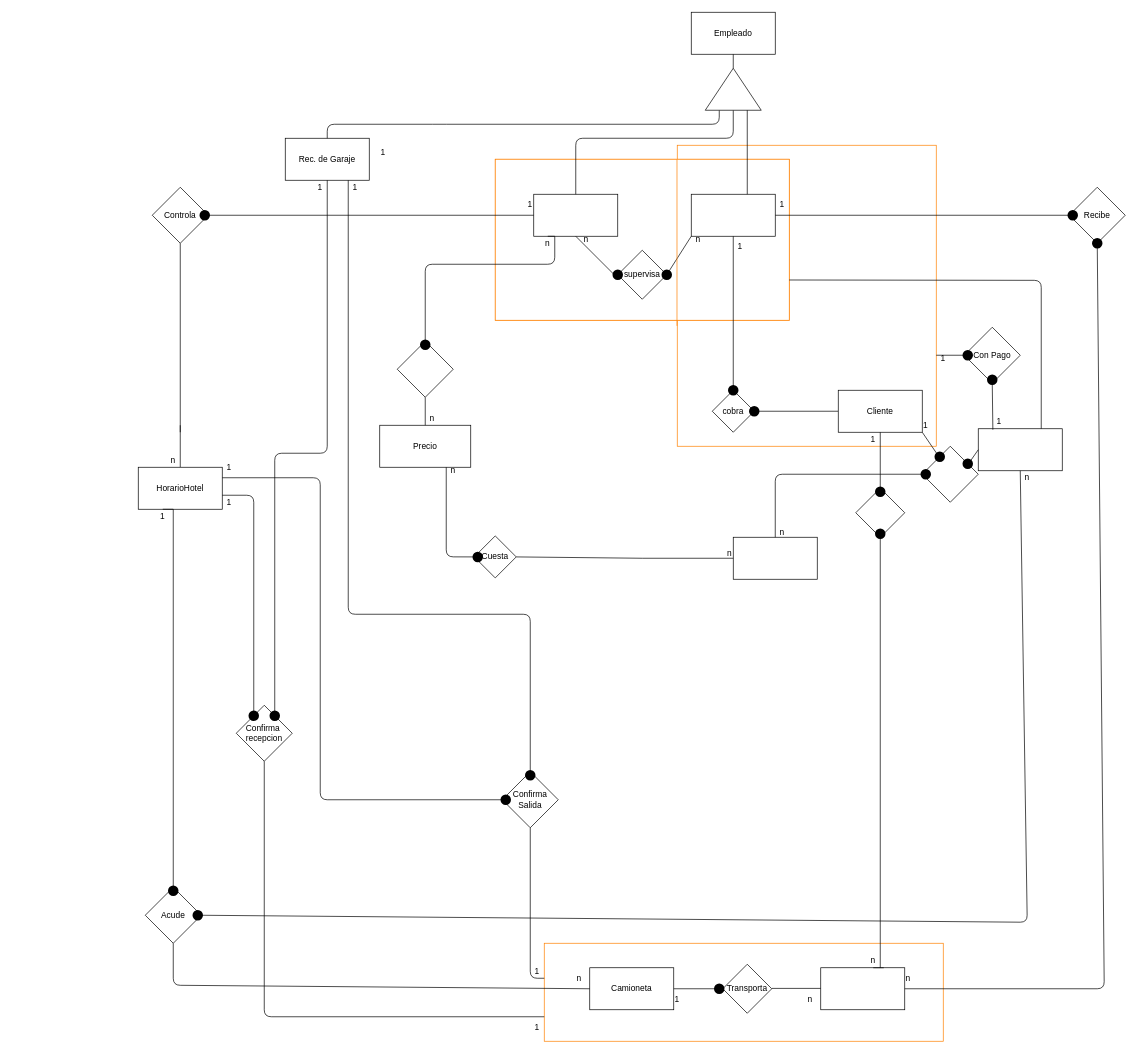
The diagram is 1138 pixels wide and 1054 high, and some of its shapes have lost their labels. The shapes that lost their labels are listed below. From the top down, each one's box as (x1, y1, x2, y2) in pixels, then its label:
(533, 194, 618, 236): Gerente
(691, 194, 775, 236): Oficinista
(397, 341, 453, 397): Regula
(978, 428, 1062, 471): Reserva
(922, 446, 978, 502): Solicita
(855, 488, 905, 537): Pertenece
(733, 537, 817, 579): TipoHabitacion
(820, 967, 905, 1010): Mascota
